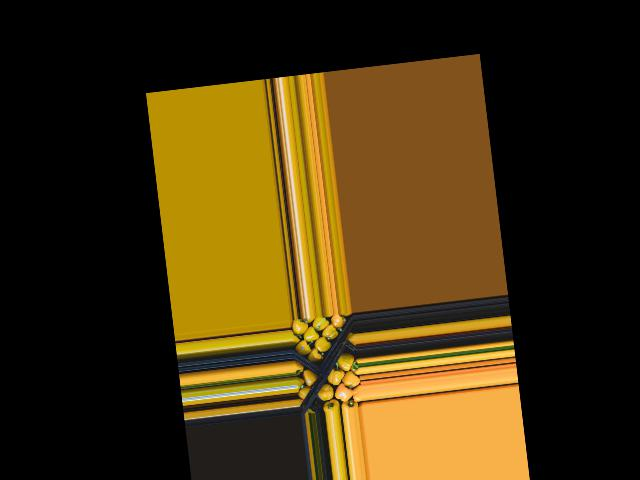bell_pepper: (288, 318, 307, 339)
